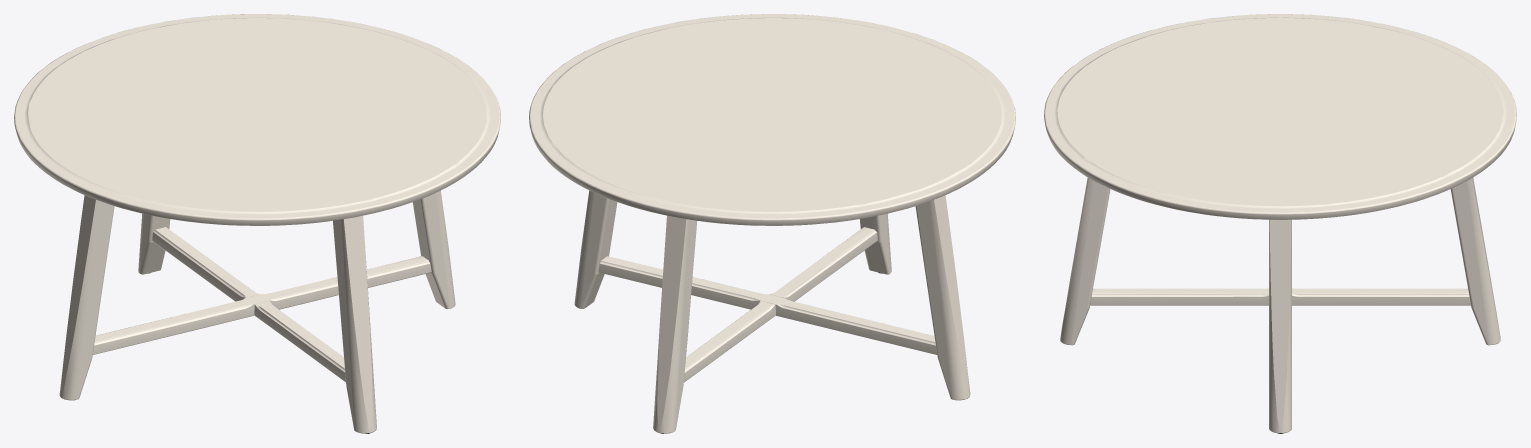
3 renders of one model, left to right at view 1: azimuth 30°, elevation 25°; view 2: azimuth 150°, elevation 25°; view 3: azimuth 270°, elevation 25°, orthographic. The views are drawn at different scales.
Parts seen in each view (by area): view 1: model; view 2: model; view 3: model.
Boxes of the visible parts, box(x1,y1,x2,y2) form: model: box(14, 14, 500, 433); model: box(529, 14, 1015, 433); model: box(1044, 14, 1516, 433).
Size of the model in its own units: 0.9001 by 0.4837 by 0.9001.
Materials: 1 (1 with a texture image).
